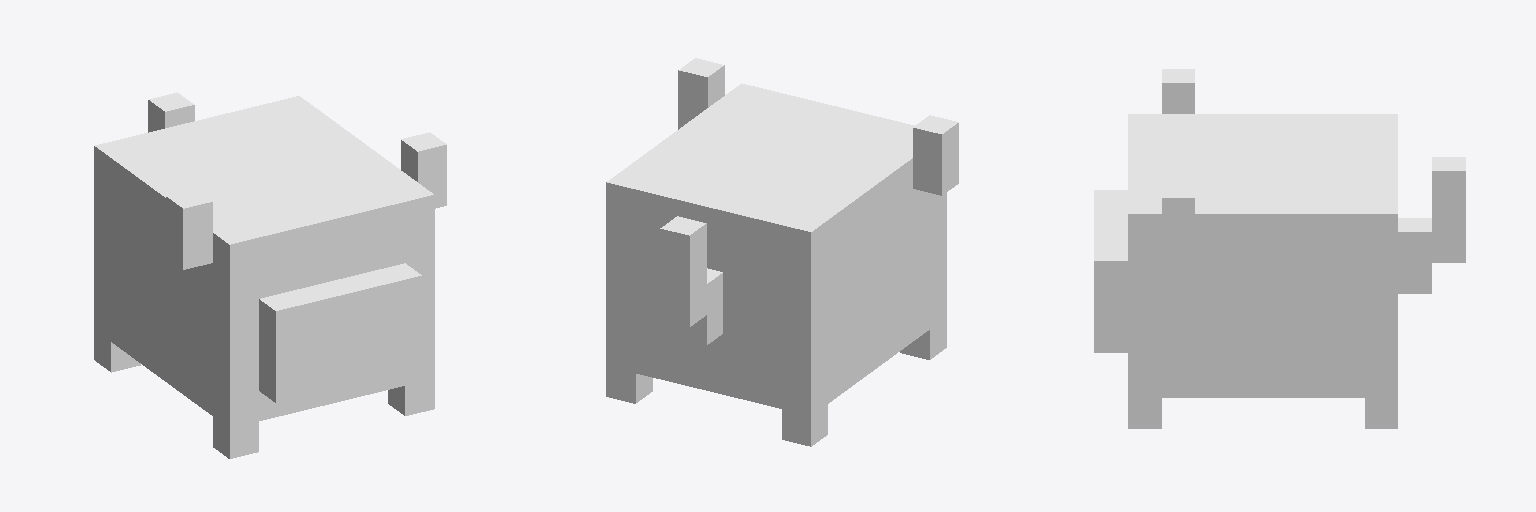
The model's file is bull.obj.
3 views of the same model, side by side, from view 1: azimuth 30°, elevation 25°; view 2: azimuth 150°, elevation 25°; view 3: azimuth 270°, elevation 25° (orthographic).
Visible parts, largest first — view 1: object 1; view 2: object 1; view 3: object 1.
Boxes of the visible parts, x1,y1,x2,y2 form: object 1: [94, 92, 446, 458]; object 1: [606, 58, 958, 446]; object 1: [1094, 69, 1465, 428].
Size of the model in its own units: 0.9 by 0.8 by 1.1.